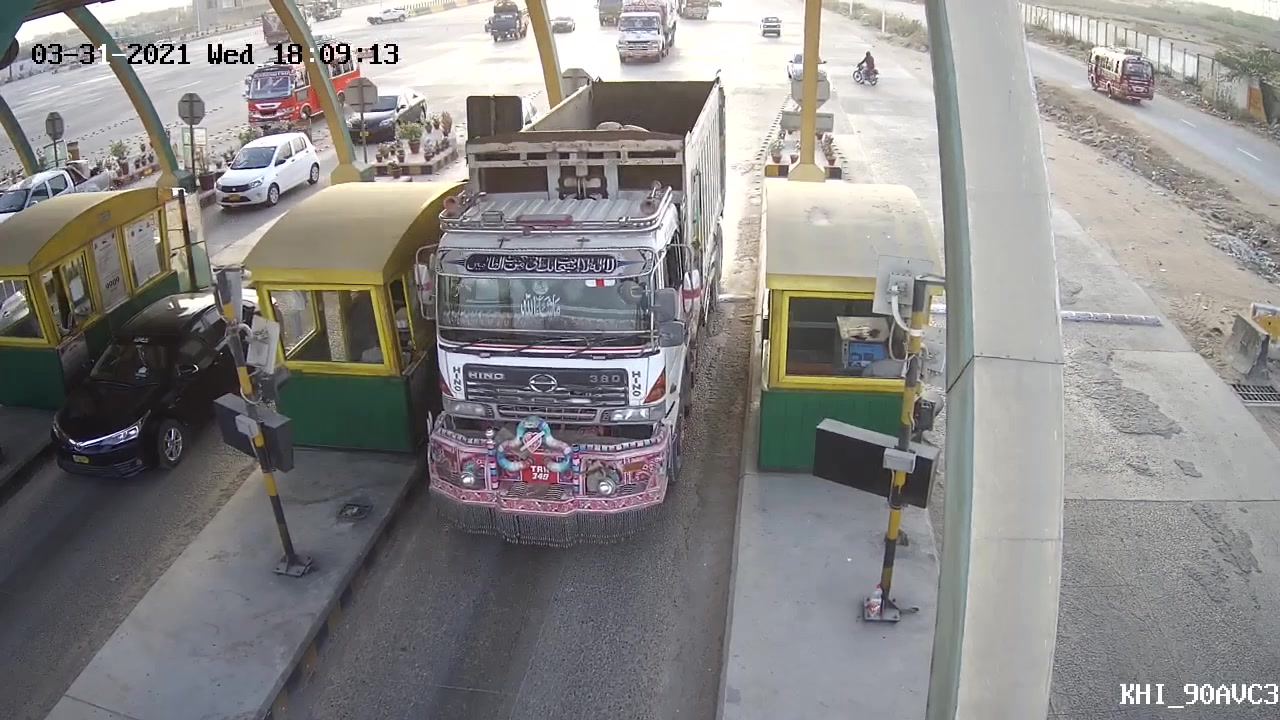F5: (410, 79, 733, 557)
